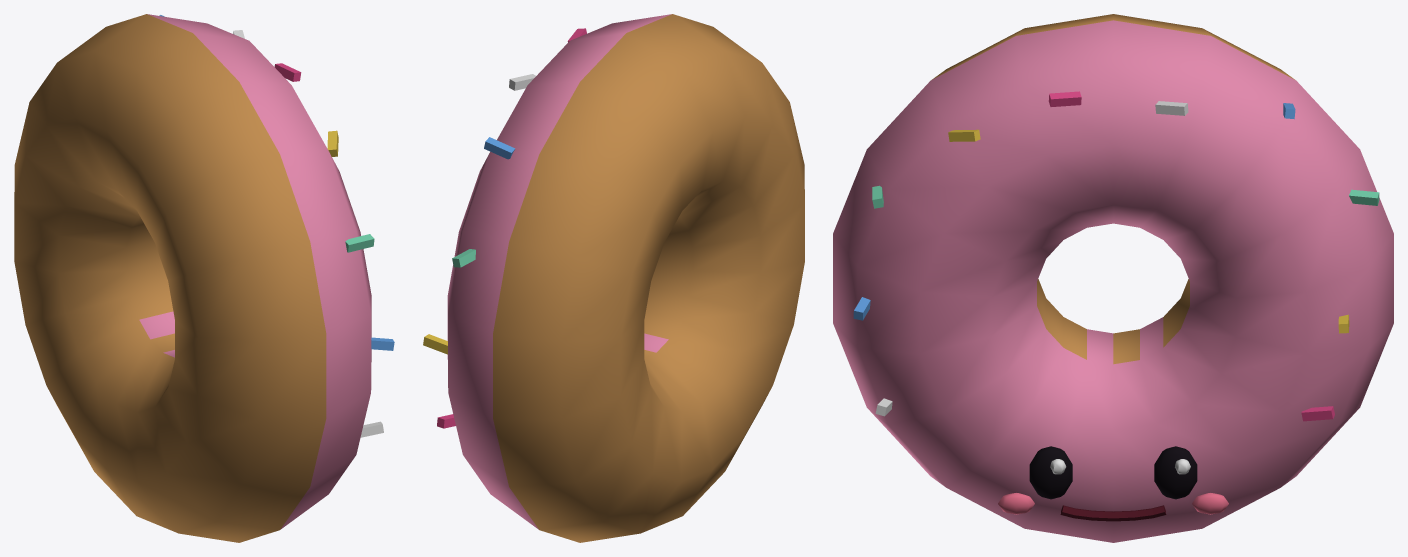
File: donut.glb
The picture shows the model from 3 angles, left to right: view 1: azimuth 30°, elevation 25°; view 2: azimuth 150°, elevation 25°; view 3: azimuth 270°, elevation 25°; orthographic projection. The views are drawn at different scales.
Visible parts, largest first — view 1: donut; view 2: donut; view 3: donut.
Boxes of the visible parts, bbox=[...] form: donut: bbox=[14, 14, 394, 542]; donut: bbox=[423, 14, 804, 542]; donut: bbox=[833, 14, 1393, 542].
Size of the model in its own units: 0.2591 by 0.64 by 0.6303.
